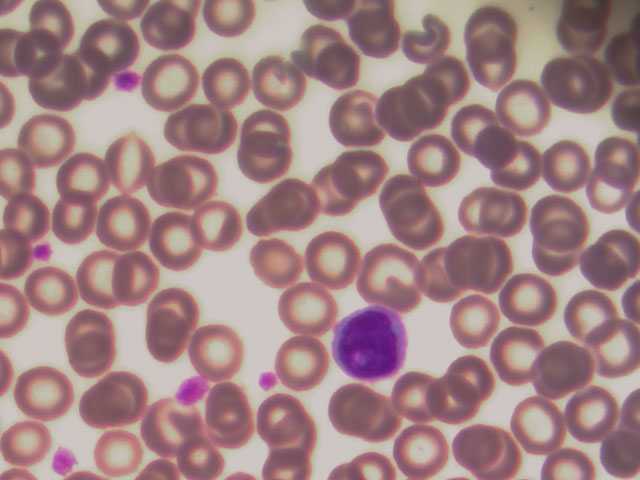Platelets: (173, 374, 209, 404), (49, 437, 75, 474), (115, 67, 143, 95), (31, 236, 56, 264), (255, 370, 281, 391)
RBC: (32, 59, 85, 108), (62, 48, 115, 97), (87, 20, 140, 69), (23, 112, 76, 161), (1, 188, 54, 237), (51, 194, 104, 243), (52, 154, 105, 203), (105, 140, 158, 189), (157, 157, 210, 206), (148, 215, 201, 264), (187, 202, 240, 251), (96, 199, 149, 248), (110, 252, 163, 301), (80, 250, 133, 299), (24, 267, 77, 316), (67, 309, 120, 358), (138, 286, 191, 335), (190, 320, 243, 369), (93, 373, 146, 422), (18, 369, 71, 418), (97, 425, 150, 474), (145, 404, 198, 453), (207, 386, 260, 435), (249, 397, 302, 446), (274, 339, 327, 388), (282, 283, 335, 332), (250, 239, 303, 288), (306, 234, 359, 283), (262, 181, 315, 230), (238, 135, 291, 184), (237, 103, 290, 152), (189, 103, 242, 152), (159, 105, 212, 154), (141, 55, 194, 104), (200, 55, 253, 104), (139, 6, 192, 55), (255, 58, 308, 107), (316, 41, 369, 90), (329, 90, 382, 139), (341, 148, 394, 197), (316, 170, 369, 219), (373, 177, 426, 226), (399, 203, 452, 252), (363, 251, 416, 300), (407, 134, 460, 183), (376, 89, 429, 138), (419, 60, 472, 109), (469, 41, 522, 90), (497, 84, 550, 133), (468, 122, 521, 171), (449, 103, 502, 152), (492, 141, 545, 190), (459, 185, 512, 234), (483, 192, 536, 241), (531, 195, 584, 244), (536, 235, 589, 284), (452, 237, 505, 286), (418, 249, 471, 298), (447, 295, 500, 344), (498, 275, 551, 324), (490, 328, 543, 377), (449, 349, 502, 398), (427, 374, 480, 423), (396, 370, 449, 419), (330, 383, 383, 432), (395, 426, 448, 475), (464, 421, 517, 470), (514, 400, 567, 449), (537, 342, 590, 391), (587, 321, 640, 370), (559, 286, 612, 335), (581, 244, 634, 293), (587, 161, 640, 210), (538, 139, 591, 188), (542, 60, 595, 109), (557, 7, 610, 56), (347, 7, 400, 56), (466, 1, 519, 49), (12, 29, 64, 76)
WBC: (333, 303, 410, 382)
